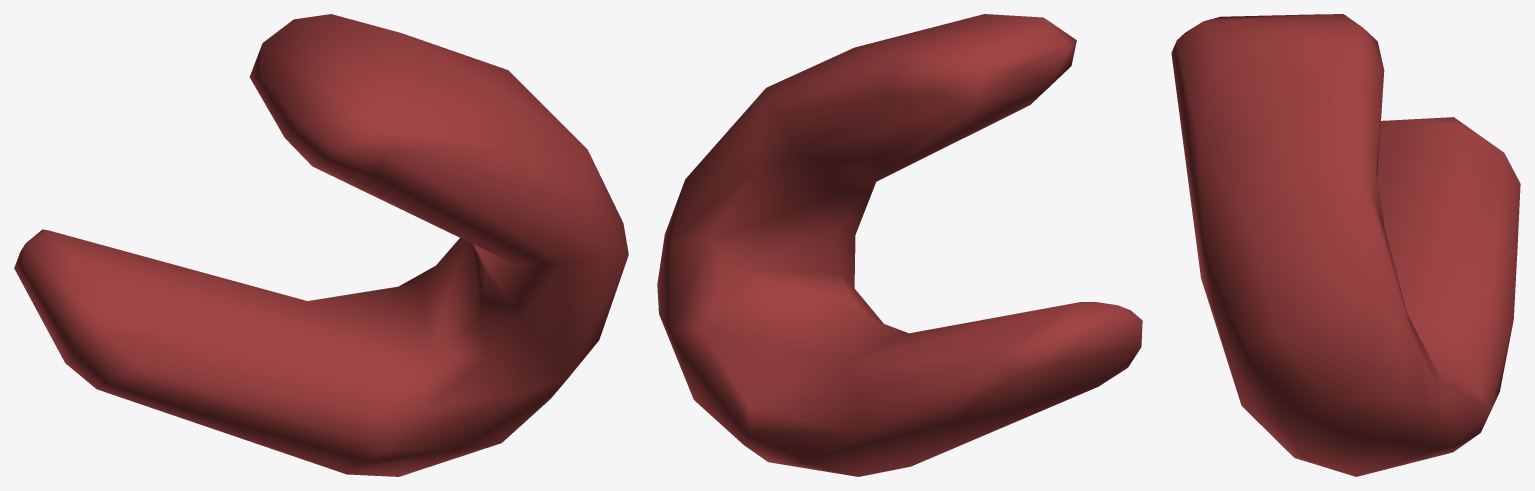
File: trochlea-of-superior-oblique-muscle-l.glb
The picture shows the model from 3 angles, left to right: view 1: azimuth 30°, elevation 25°; view 2: azimuth 150°, elevation 25°; view 3: azimuth 270°, elevation 25°; orthographic projection. The views are drawn at different scales.
Visible parts, largest first — view 1: Trochlea of superior oblique muscle.l; view 2: Trochlea of superior oblique muscle.l; view 3: Trochlea of superior oblique muscle.l.
Part boxes in pixels (box(x1,y1,x2,y2)): Trochlea of superior oblique muscle.l: box(14, 14, 628, 476); Trochlea of superior oblique muscle.l: box(657, 14, 1142, 476); Trochlea of superior oblique muscle.l: box(1171, 14, 1520, 476).
Size of the model in its own units: 0.00422 by 0.00361 by 0.00294.
